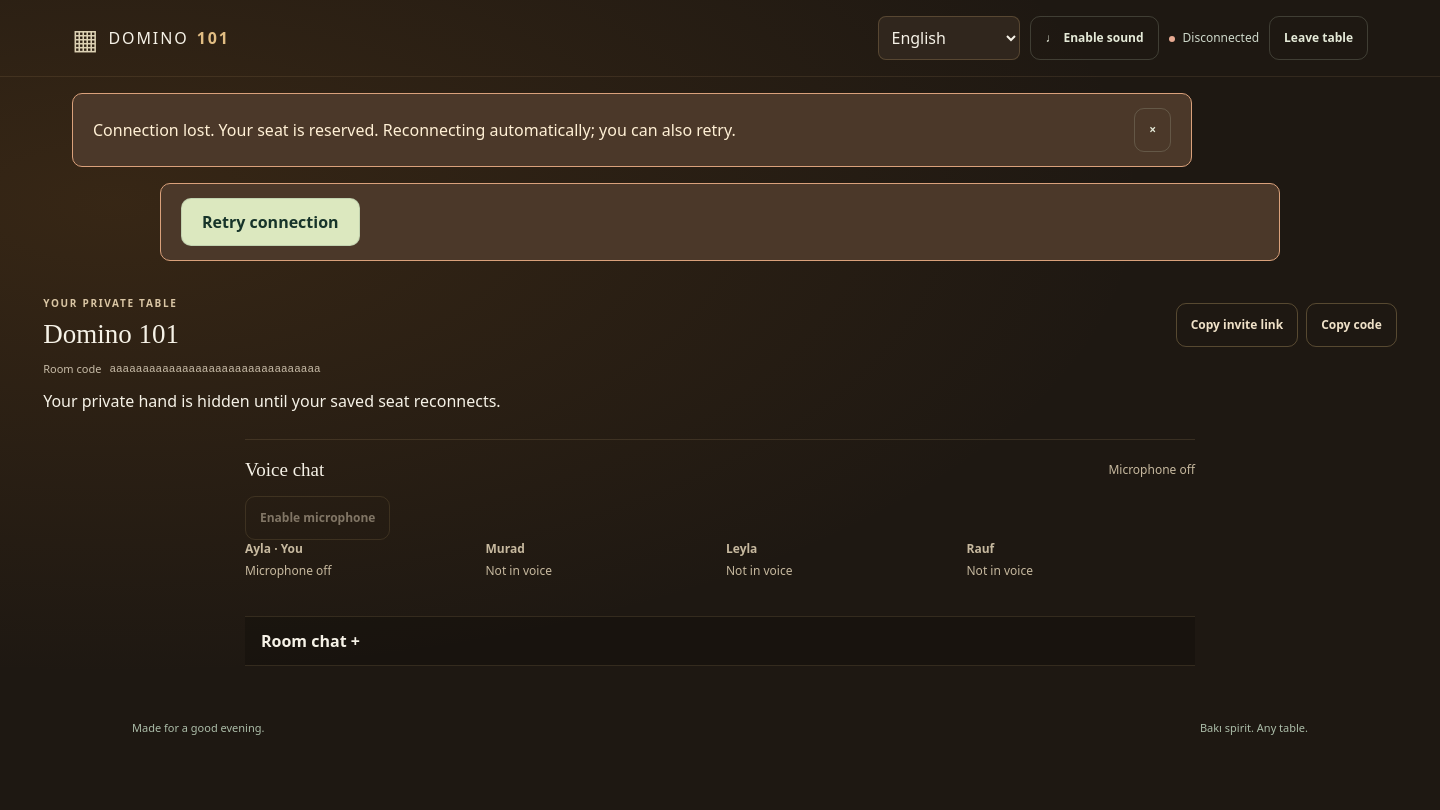
entry and room routes › shows connection loss, removes private hand, and offers a fresh entry
Check: the text "Disconnected" is shown, box x1=1169 y1=29 x2=1259 y2=47
Check: the 2nd message shows "seat is reserved", box x1=93 y1=119 x2=736 y2=141
Click the button "Leave table" at (1318, 38), box x1=1269 y1=16 x2=1368 y2=60
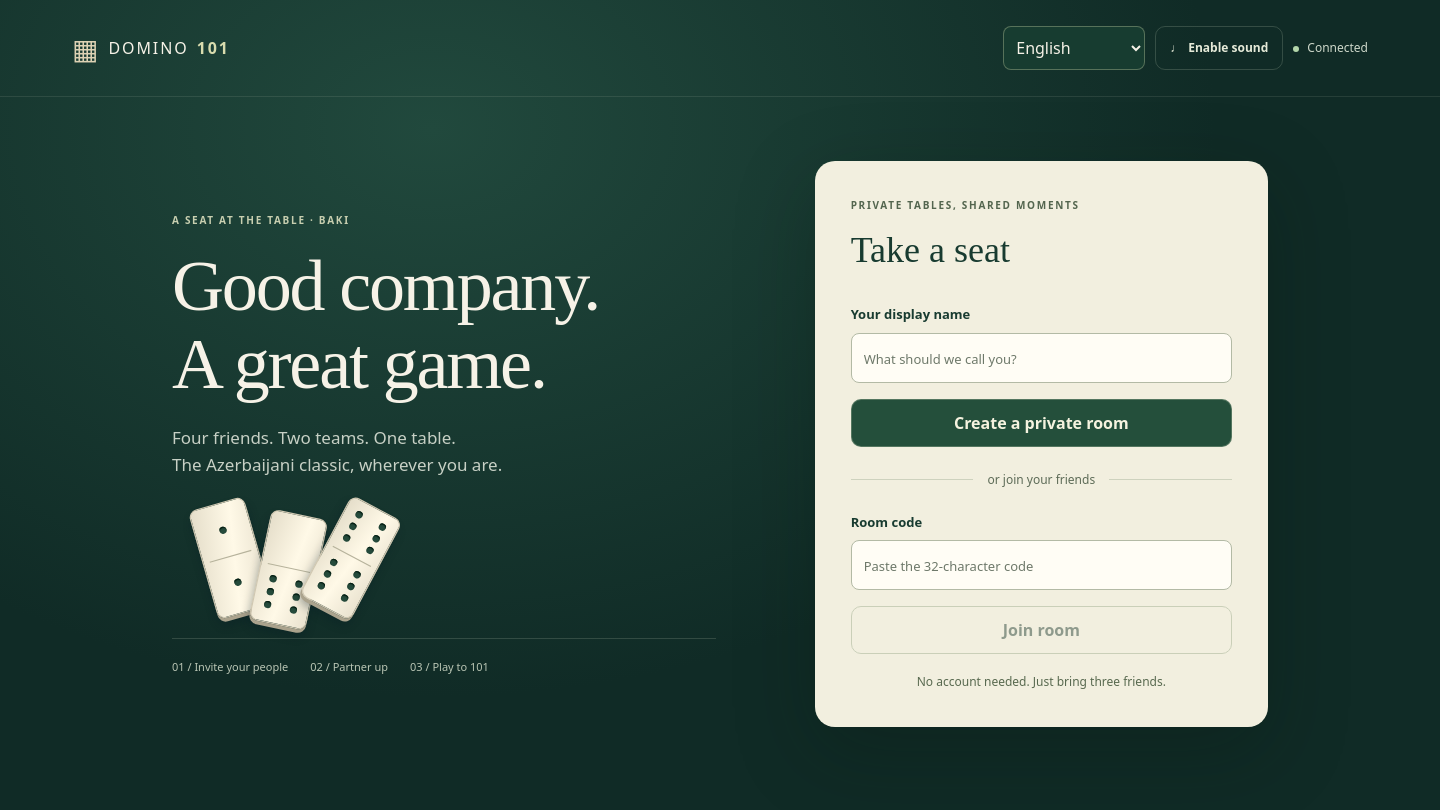
Check: the heading "Take a seat" is shown, box x1=851 y1=230 x2=1010 y2=270
